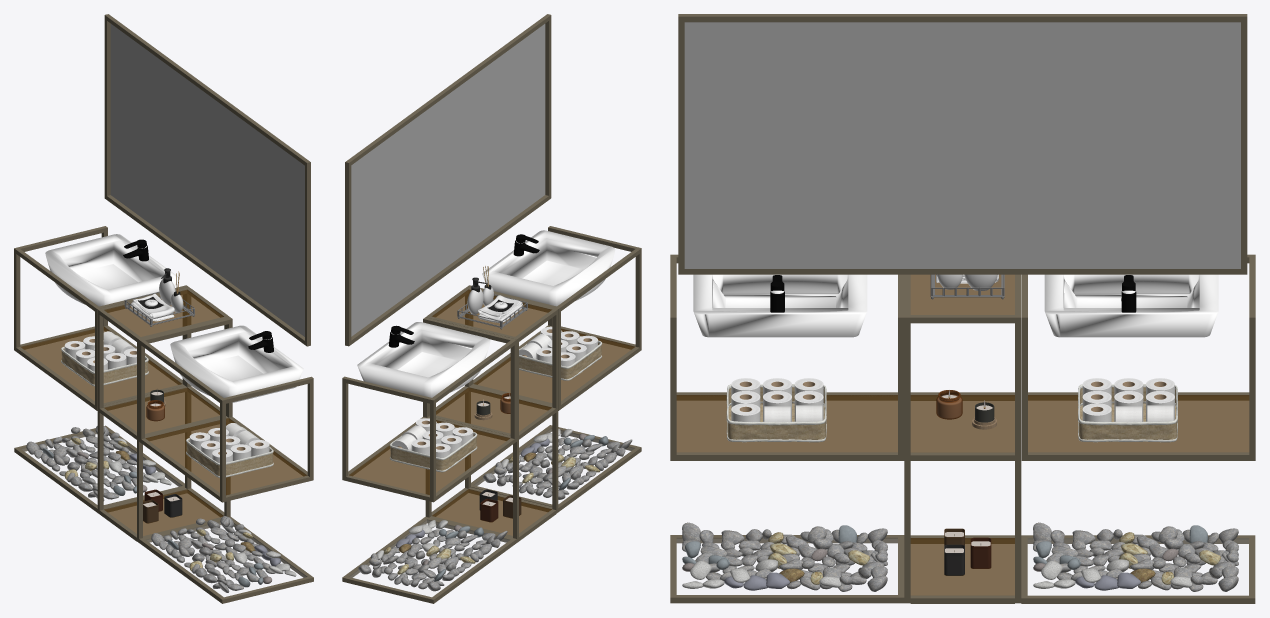
The model's file is ayra-iconica-bronze.glb.
3 views of the same model, side by side, from view 1: azimuth 30°, elevation 25°; view 2: azimuth 150°, elevation 25°; view 3: azimuth 270°, elevation 25° (orthographic). The views are drawn at different scales.
Visible parts, largest first — view 1: G-Object.054, _G-Object (Loose Mesh), G-Object.044, G-Object.043, 3DGeom~1 (C-3DGeom~1_Defintion).001, 3DGeom~1 (C-3DGeom~1_Defintion), _G-Object.048 (Loose Mesh), _G-Object.030 (Loose Mesh), G-Object.022, G-Object.017, G-Object.089, G-Object.063 (+2 smaller); view 2: G-Object.054, _G-Object (Loose Mesh), G-Object.043, G-Object.044, 3DGeom~1 (C-3DGeom~1_Defintion), 3DGeom~1 (C-3DGeom~1_Defintion).001, _G-Object.030 (Loose Mesh), _G-Object.048 (Loose Mesh), G-Object.017, G-Object.022, G-Object.063, G-Object.089 (+2 smaller); view 3: G-Object.054, _G-Object (Loose Mesh), 3DGeom~1 (C-3DGeom~1_Defintion), 3DGeom~1 (C-3DGeom~1_Defintion).001, G-Object.044, G-Object.043, _G-Object.048 (Loose Mesh), _G-Object.030 (Loose Mesh), G-Object.017, G-Object.022, G-Object.062, G-Object.088.
Boxes of the visible parts, x1=… form: G-Object.054: x1=14, y1=14, x2=313, y2=603; _G-Object (Loose Mesh): x1=104, y1=290, x2=223, y2=535; G-Object.044: x1=170, y1=325, x2=303, y2=402; G-Object.043: x1=45, y1=234, x2=178, y2=306; 3DGeom~1 (C-3DGeom~1_Defintion).001: x1=151, y1=516, x2=296, y2=592; 3DGeom~1 (C-3DGeom~1_Defintion): x1=26, y1=426, x2=171, y2=500; _G-Object.048 (Loose Mesh): x1=145, y1=418, x2=307, y2=495; _G-Object.030 (Loose Mesh): x1=21, y1=327, x2=181, y2=402; G-Object.022: x1=147, y1=523, x2=305, y2=596; G-Object.017: x1=22, y1=432, x2=180, y2=504; G-Object.089: x1=186, y1=440, x2=247, y2=476; G-Object.063: x1=61, y1=347, x2=122, y2=384; G-Object.054: x1=342, y1=14, x2=641, y2=603; _G-Object (Loose Mesh): x1=432, y1=289, x2=551, y2=535; G-Object.043: x1=357, y1=322, x2=490, y2=397; G-Object.044: x1=482, y1=230, x2=615, y2=306; 3DGeom~1 (C-3DGeom~1_Defintion): x1=358, y1=520, x2=507, y2=591; 3DGeom~1 (C-3DGeom~1_Defintion).001: x1=483, y1=429, x2=632, y2=499; _G-Object.030 (Loose Mesh): x1=349, y1=418, x2=510, y2=494; _G-Object.048 (Loose Mesh): x1=473, y1=328, x2=635, y2=402; G-Object.017: x1=350, y1=520, x2=508, y2=596; G-Object.022: x1=475, y1=429, x2=633, y2=503; G-Object.063: x1=416, y1=434, x2=476, y2=470; G-Object.089: x1=541, y1=343, x2=601, y2=379; G-Object.054: x1=670, y1=14, x2=1255, y2=603; _G-Object (Loose Mesh): x1=910, y1=274, x2=1014, y2=595; 3DGeom~1 (C-3DGeom~1_Defintion): x1=1033, y1=522, x2=1238, y2=591; 3DGeom~1 (C-3DGeom~1_Defintion).001: x1=682, y1=522, x2=887, y2=591; G-Object.044: x1=693, y1=274, x2=867, y2=337; G-Object.043: x1=1044, y1=274, x2=1218, y2=337; _G-Object.048 (Loose Mesh): x1=676, y1=395, x2=897, y2=452; _G-Object.030 (Loose Mesh): x1=1028, y1=395, x2=1249, y2=452; G-Object.017: x1=1028, y1=538, x2=1248, y2=594; G-Object.022: x1=677, y1=539, x2=897, y2=594; G-Object.062: x1=1078, y1=420, x2=1177, y2=441; G-Object.088: x1=727, y1=420, x2=826, y2=441.
Size of the model in its own units: 0.4707 by 2.05 by 1.85.
36 materials, 17 textured.
